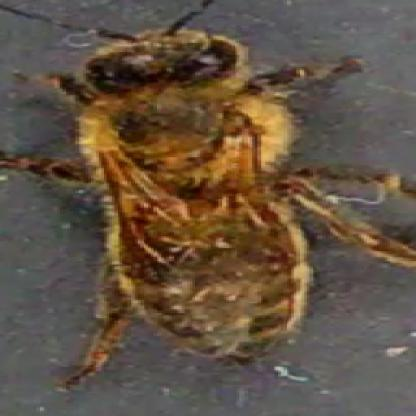bee: (37, 23, 346, 359)
